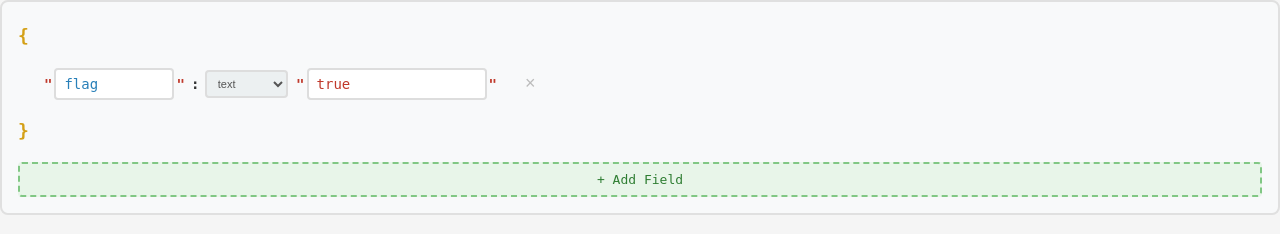
Scenario: JsonBuilder Component › Type Selection › should change input type when selecting different type
The image size is (1280, 234).
# Find the type selector and change to boolean
Select "true/false" in the dropdown at (247, 84), box [205, 70, 288, 98]
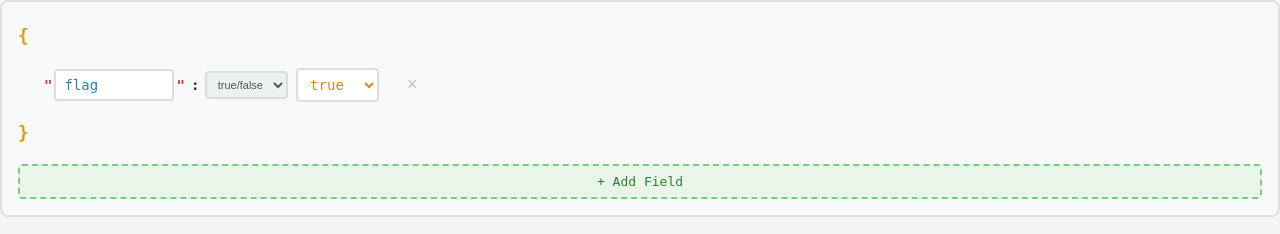
expect the 2nd dropdown is shown: met, box [296, 68, 379, 102]
